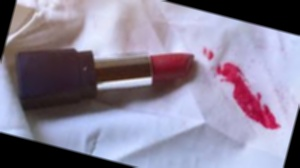lipstick: (205, 68, 287, 129), (202, 51, 249, 96), (199, 44, 224, 65)
